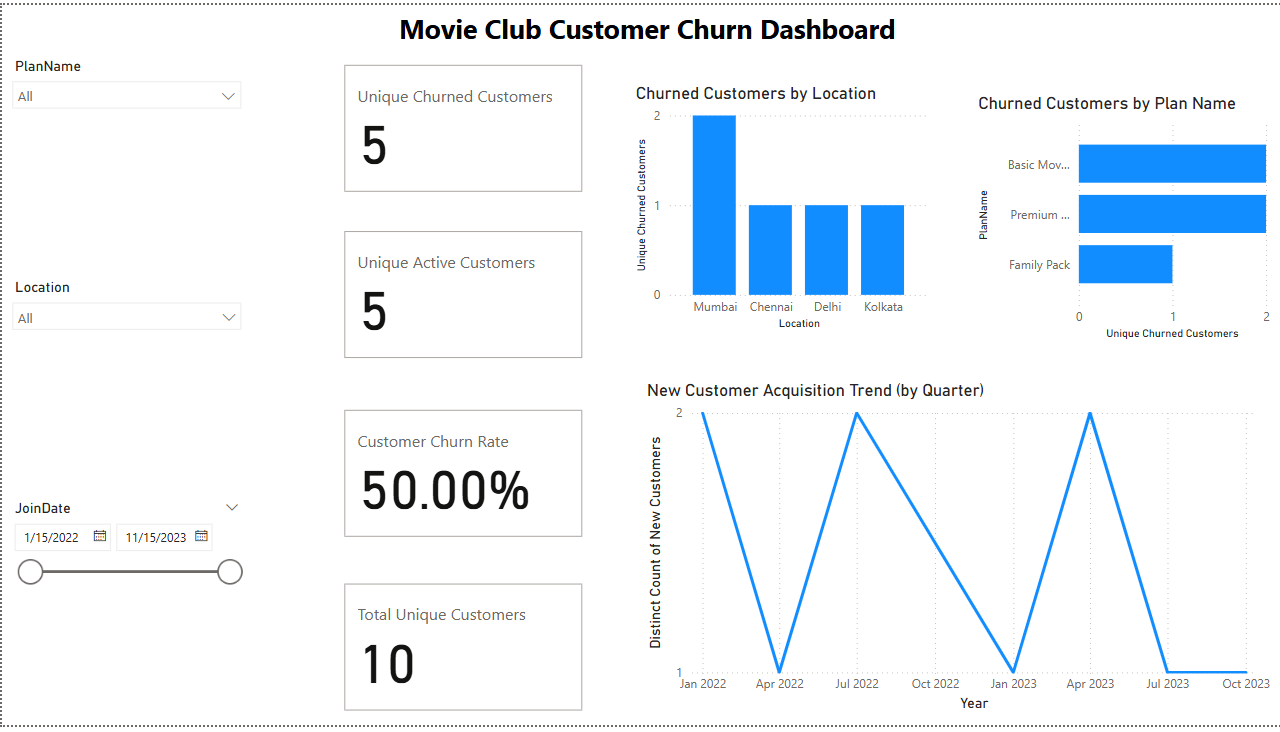

The page's visual inventory and layout, read from the dashboard file:
{"tool":"powerbi","page":{"name":"Page 1","canvas":[1280,720],"ordinal":0},"visuals":[{"type":"textbox","box":[9.7,0,1270.4,53.1],"z":0},{"type":"cardVisual","fields":{"Data":["CustomerCurrentStatus.Unique Churned Customers"]},"box":[337.6,54.8,248.2,137.1],"z":1000},{"type":"cardVisual","fields":{"Data":["CustomerCurrentStatus.Unique Active Customers"]},"box":[337,220.7,248,137],"z":2000},{"type":"cardVisual","fields":{"Data":["CustomerCurrentStatus.Customer Churn Rate"]},"box":[337.6,399.6,248,137],"z":3000},{"type":"cardVisual","fields":{"Data":["CustomerCurrentStatus.Total Unique Customers"]},"box":[337,574.2,248.2,137],"z":4000},{"type":"clusteredBarChart","title":"Churned Customers by Plan Name","fields":{"Category":["Plans.PlanName"],"Y":["CustomerCurrentStatus.Unique Churned Customers"]},"box":[971,88,302,252],"z":5000},{"type":"columnChart","title":"Churned Customers by Location","fields":{"Category":["CustomerCurrentStatus.Location"],"Y":["CustomerCurrentStatus.Unique Churned Customers"]},"box":[629,77.9,303,252.5],"z":6000},{"type":"lineChart","title":"New Customer Acquisition Trend (by Quarter)","fields":{"Y":["Count(CustomerCurrentStatus.CustomerID)"],"Category":["CustomerCurrentStatus.JoinDate.Variation.Date Hierarchy.Year","CustomerCurrentStatus.JoinDate.Variation.Date Hierarchy.Quarter","CustomerCurrentStatus.JoinDate.Variation.Date Hierarchy.Month","CustomerCurrentStatus.JoinDate.Variation.Date Hierarchy.Day"]},"box":[639.4,375.2,633.4,336.6],"z":7000},{"type":"slicer","fields":{"Values":["CustomerCurrentStatus.Location"]},"box":[0,268.7,249.6,184.7],"z":8000},{"type":"slicer","fields":{"Values":["CustomerCurrentStatus.PlanName"]},"box":[0,47.6,249,184],"z":9000},{"type":"slicer","fields":{"Values":["CustomerCurrentStatus.JoinDate"]},"box":[0,490.5,249,184],"z":10000}]}

Visuals, with their boxes in screenshot pixels (x1, y1, x2, y2), scaled from the page's 1280x720 canvas onto the 1280x732 screenshot:
textbox: (10, 0, 1279, 54)
cardVisual - CustomerCurrentStatus.Unique Churned Customers: (338, 56, 586, 195)
cardVisual - CustomerCurrentStatus.Unique Active Customers: (337, 224, 585, 364)
cardVisual - CustomerCurrentStatus.Customer Churn Rate: (338, 406, 586, 546)
cardVisual - CustomerCurrentStatus.Total Unique Customers: (337, 584, 585, 723)
"Churned Customers by Plan Name" clusteredBarChart: (971, 89, 1273, 346)
"Churned Customers by Location" columnChart: (629, 79, 932, 336)
"New Customer Acquisition Trend (by Quarter)" lineChart: (639, 381, 1273, 724)
slicer - CustomerCurrentStatus.Location: (0, 273, 250, 461)
slicer - CustomerCurrentStatus.PlanName: (0, 48, 249, 235)
slicer - CustomerCurrentStatus.JoinDate: (0, 499, 249, 686)
